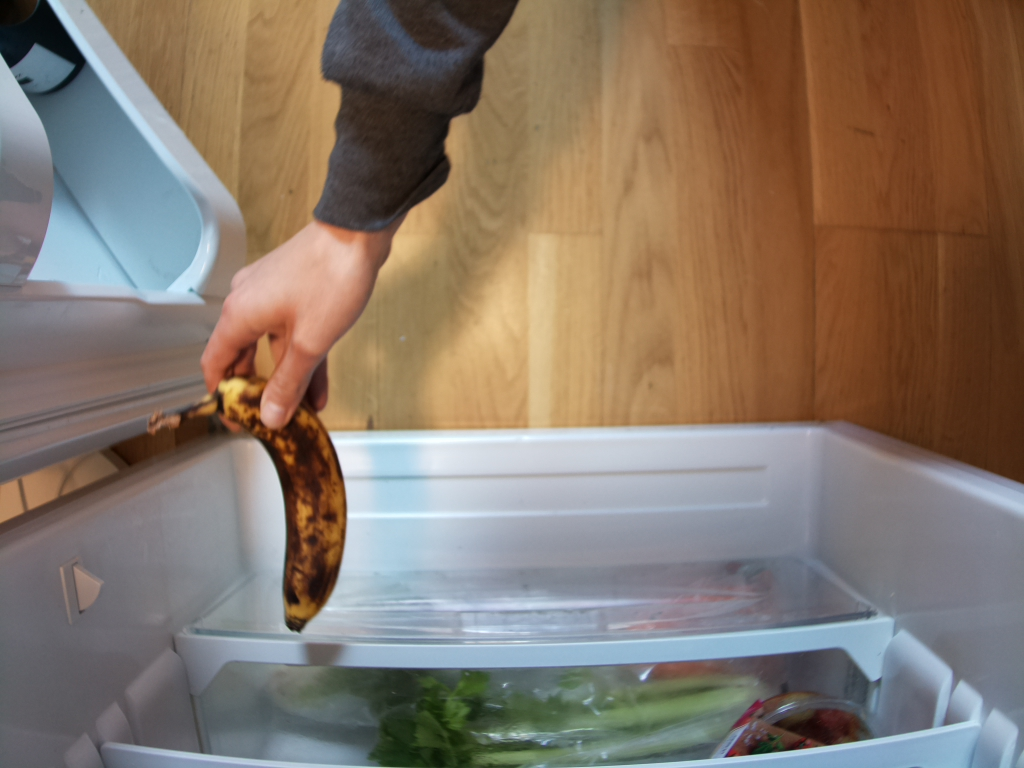banana-overripe: (147, 375, 347, 631)
